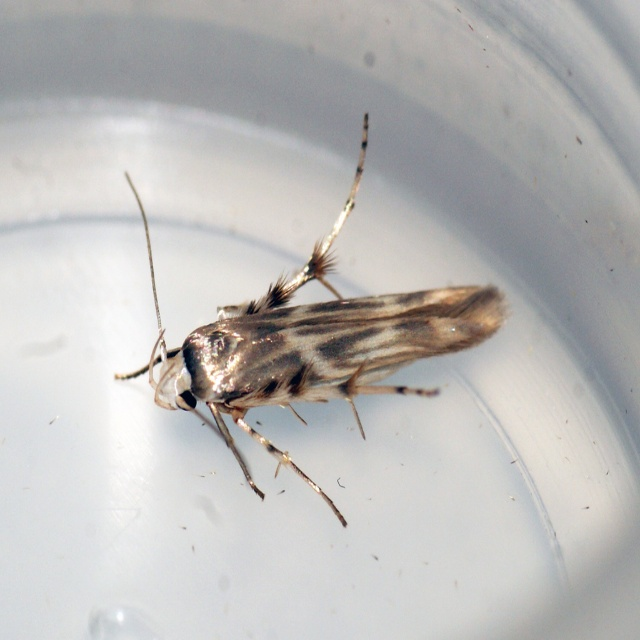Moths and butterflies: (113, 109, 519, 526)
